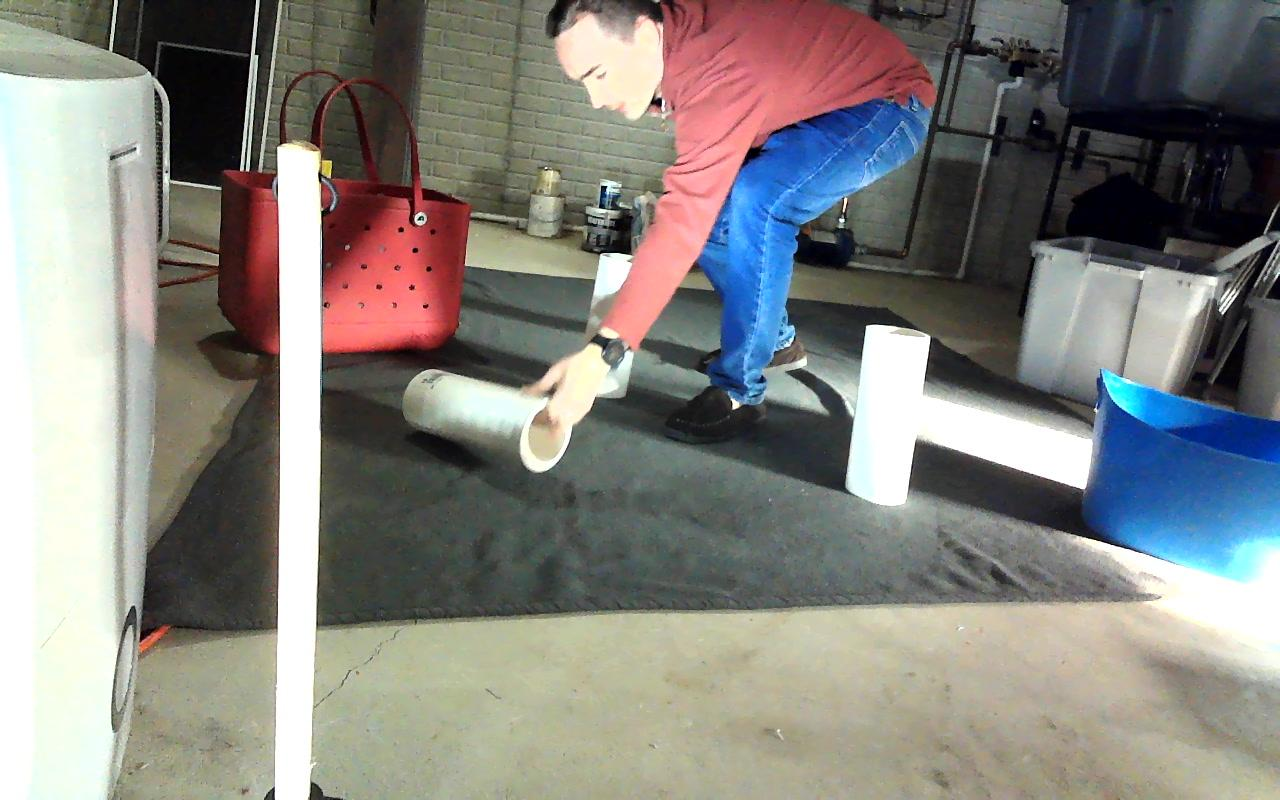coral: (402, 372, 566, 471), (845, 324, 930, 503), (591, 256, 650, 392)
